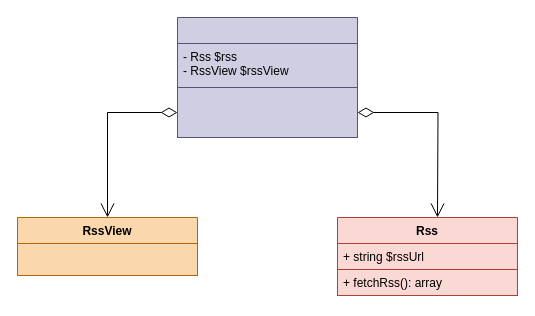
The diagram is 535 pixels wide and 316 high, and some of its shapes have lost their labels. The shapes that lost their labels are listed below. From the top down, each one's box as (x1, y1, x2, y2) in pixels, then its label:
(176, 16, 358, 138): RssController
(176, 86, 358, 138): + getRss(): void +renderRss($rssArray): void
(16, 242, 198, 276): + displayRss($rssArray): void
